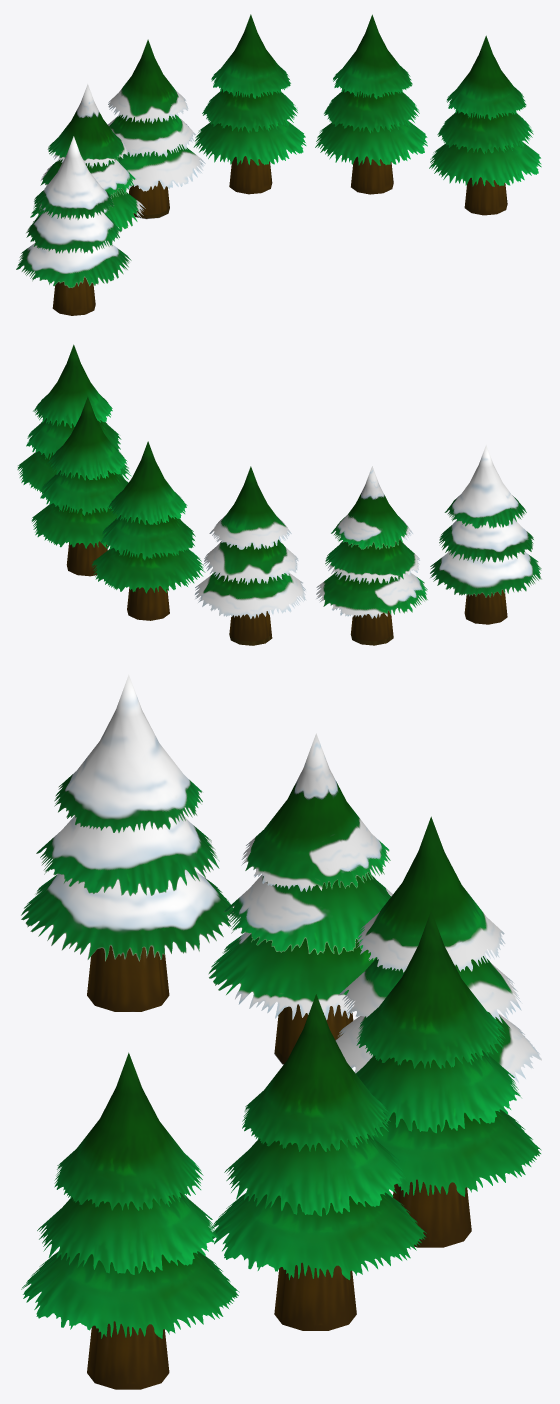
The picture shows the model from 3 angles, top to bottom: view 1: azimuth 30°, elevation 25°; view 2: azimuth 150°, elevation 25°; view 3: azimuth 270°, elevation 25°; orthographic projection. The views are drawn at different scales.
Parts seen in each view (by area): view 1: Cylinder052; view 2: Cylinder052; view 3: Cylinder052.
Boxes of the visible parts, bbox=[...] form: Cylinder052: bbox=[16, 14, 541, 315]; Cylinder052: bbox=[17, 344, 541, 645]; Cylinder052: bbox=[21, 674, 541, 1389].
Bounding box in the file's own units: 49 × 15.6 × 23.43.
6 materials, 6 textured.
